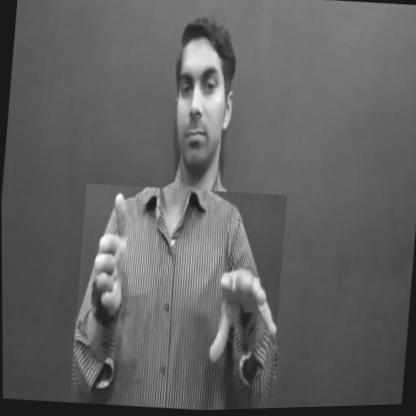Expensive: (67, 179, 287, 414)
